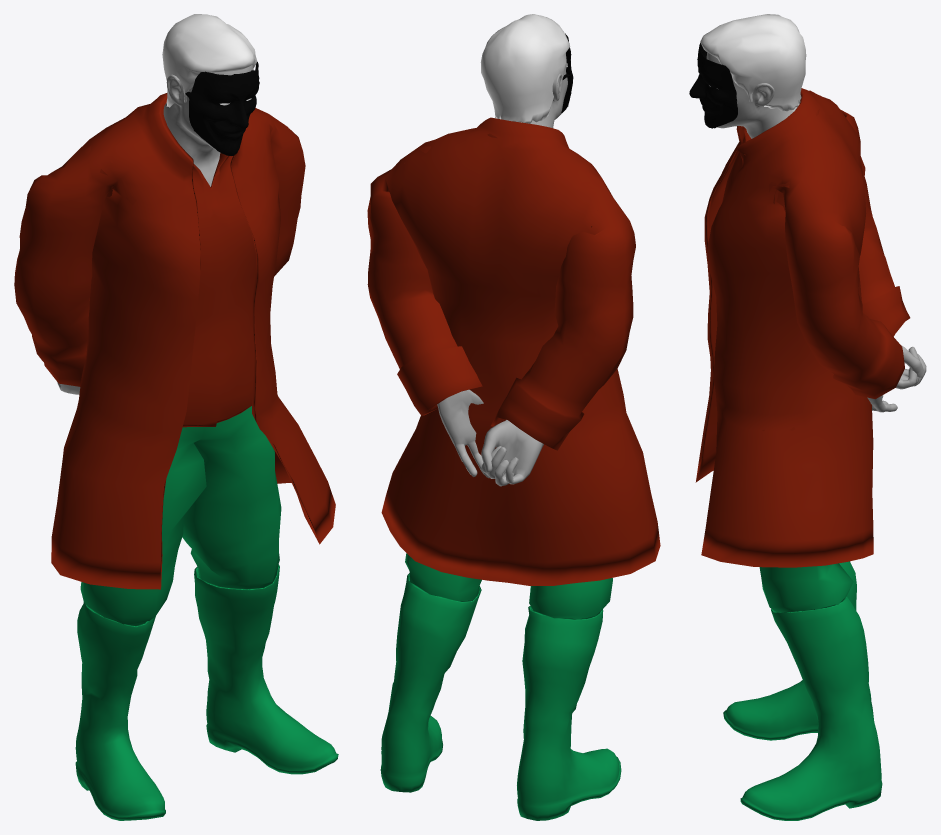
The model's file is Unity_GPP_HandsBehind.fbx.
3 renders of one model, left to right at view 1: azimuth 30°, elevation 25°; view 2: azimuth 150°, elevation 25°; view 3: azimuth 270°, elevation 25°, orthographic. The views are drawn at different scales.
Parts seen in each view (by area): view 1: GPP2; view 2: GPP2; view 3: GPP2.
Part boxes in pixels (x1,y1,x2,y2): GPP2: (14, 14, 338, 820); GPP2: (367, 14, 660, 820); GPP2: (689, 14, 926, 820).
Size of the model in its own units: 66.9 by 178 by 51.2.
